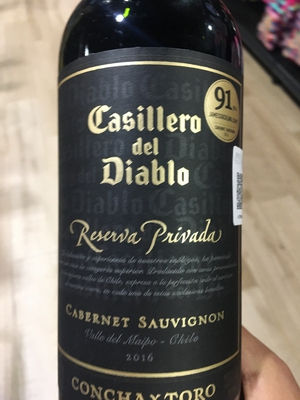casillero del diablo reserva privada cabernet sauvignon: (45, 29, 263, 400)
